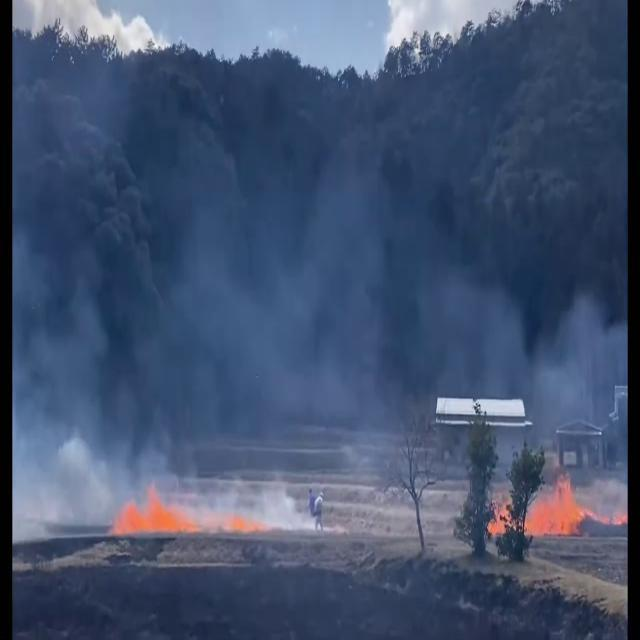Fire: (109, 476, 203, 549), (528, 461, 588, 546)
Smoke: (17, 0, 624, 482)
